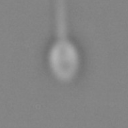normal: (46, 1, 78, 37)
